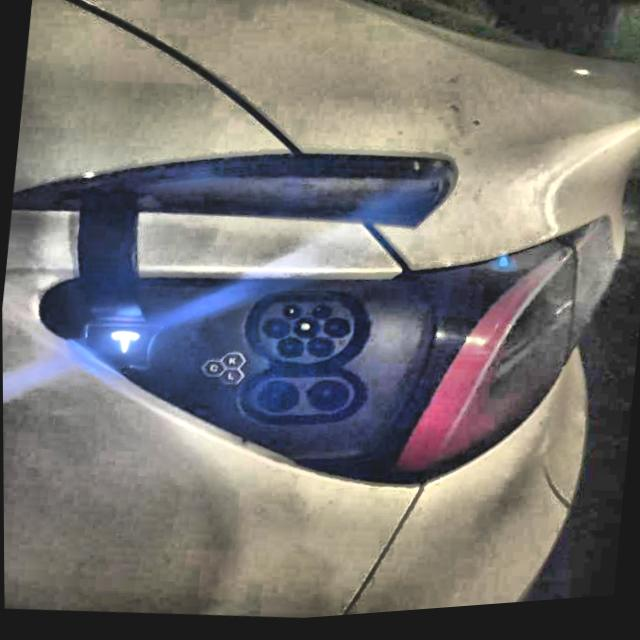inlet: (256, 306, 353, 368)
inlet-above-left: (282, 309, 300, 323)
inlet-above-right: (311, 309, 331, 324)
inlet-below-left: (276, 342, 303, 362)
inlet-below-right: (306, 341, 333, 362)
inlet-center: (293, 322, 319, 343)
inlet-center-left: (262, 321, 288, 342)
inlet-center-right: (322, 322, 349, 343)
